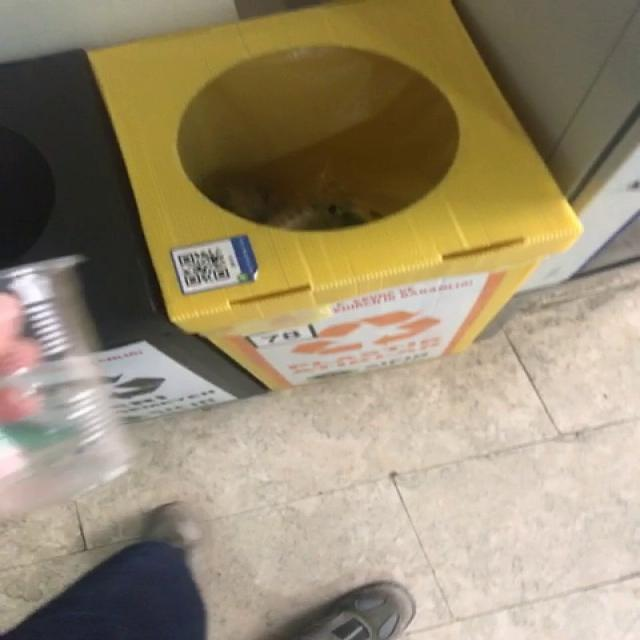plastic: (0, 256, 131, 514)
